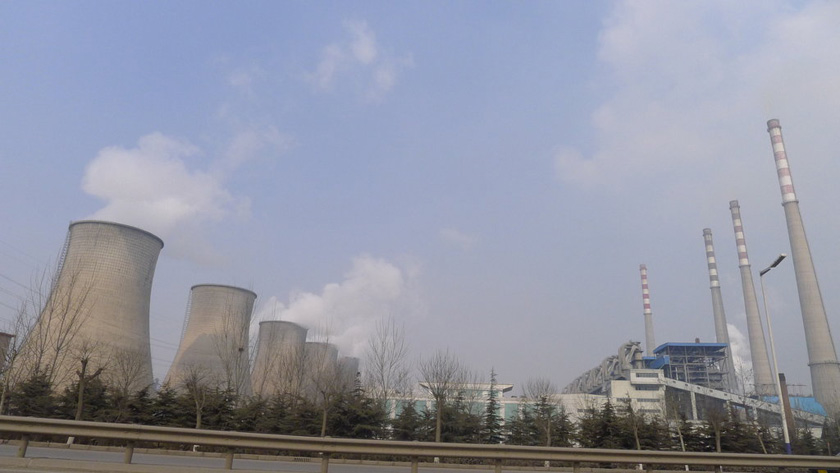dust: (67, 126, 216, 257), (252, 249, 393, 346)
